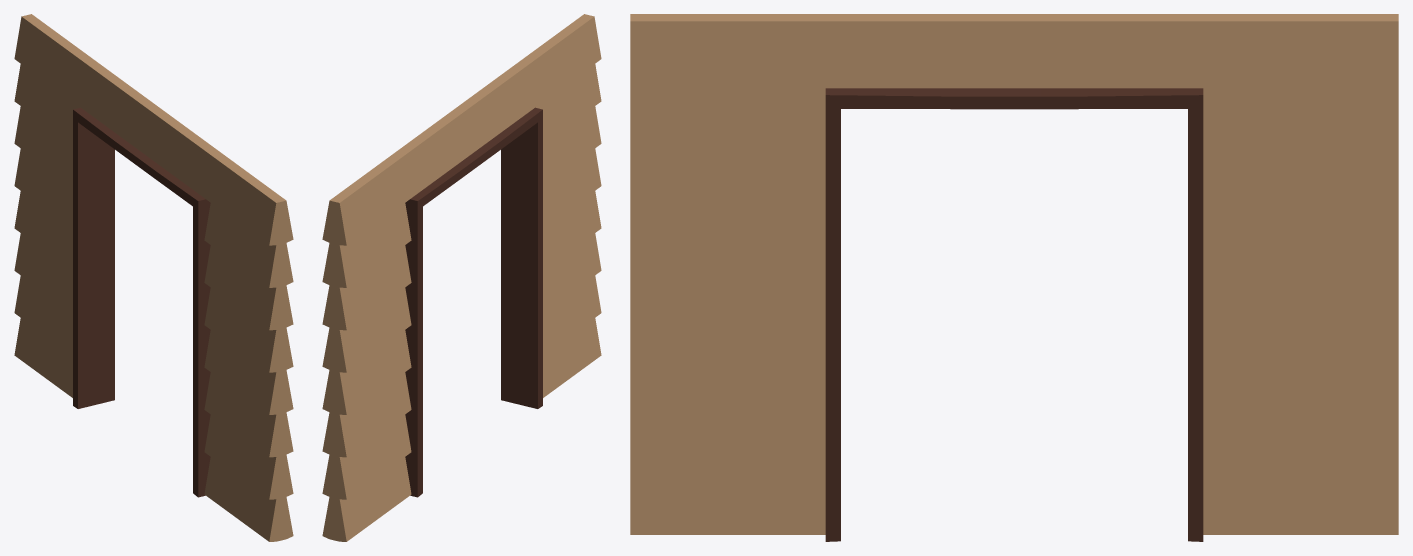
File: Saloon Door A-col.glb
3 renders of one model, left to right at view 1: azimuth 30°, elevation 25°; view 2: azimuth 150°, elevation 25°; view 3: azimuth 270°, elevation 25°, orthographic. The views are drawn at different scales.
Visible parts, largest first — view 1: Saloon Door A-col.001; view 2: Saloon Door A-col.001; view 3: Saloon Door A-col.001.
Boxes of the visible parts, bbox=[...] form: Saloon Door A-col.001: bbox=[14, 14, 293, 541]; Saloon Door A-col.001: bbox=[322, 14, 601, 541]; Saloon Door A-col.001: bbox=[630, 14, 1398, 541].
Bounding box in the file's own units: 0.25 × 2.2 × 3.
